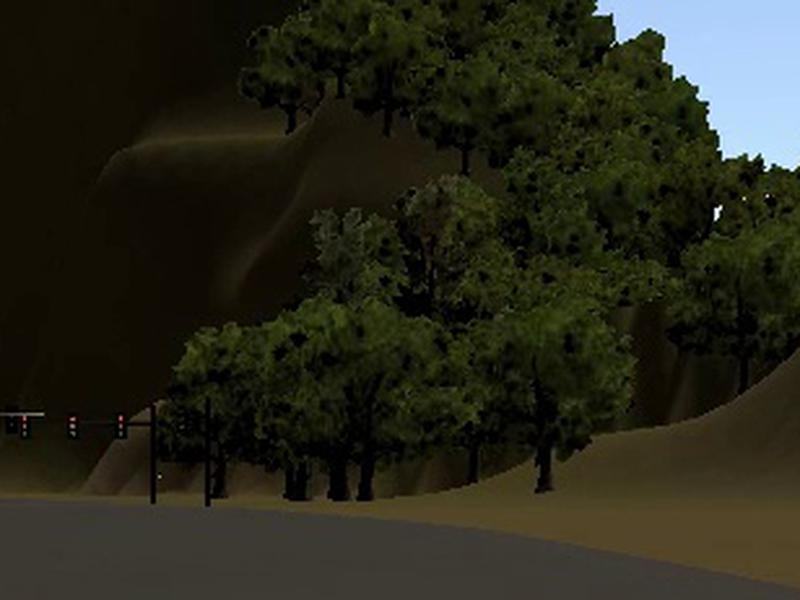Red: (67, 410, 79, 441), (19, 411, 32, 439), (115, 411, 126, 438)
